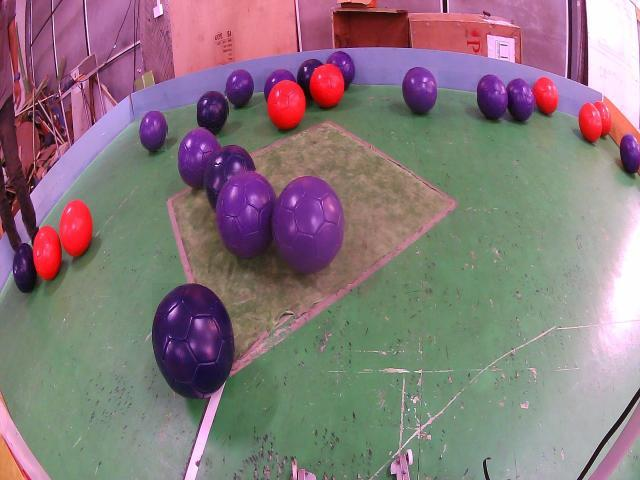jambhalya: (273, 175, 345, 273), (216, 170, 277, 258), (179, 129, 219, 188), (402, 67, 438, 113), (477, 75, 508, 120), (507, 78, 535, 122), (264, 68, 296, 102), (140, 111, 167, 151), (326, 52, 355, 89), (226, 70, 254, 106), (620, 134, 640, 173)
kaalyya: (153, 284, 235, 398), (205, 145, 255, 211), (12, 244, 38, 293), (197, 92, 228, 133), (297, 59, 322, 98)
